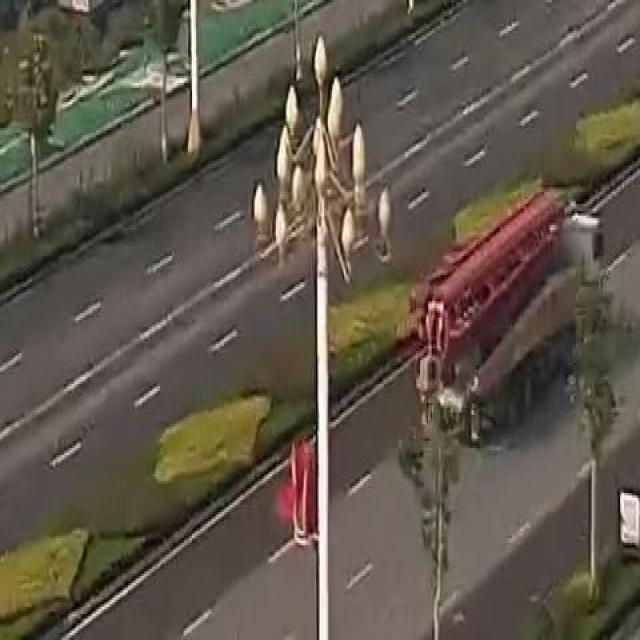other: (410, 232, 560, 339), (272, 436, 320, 535)
